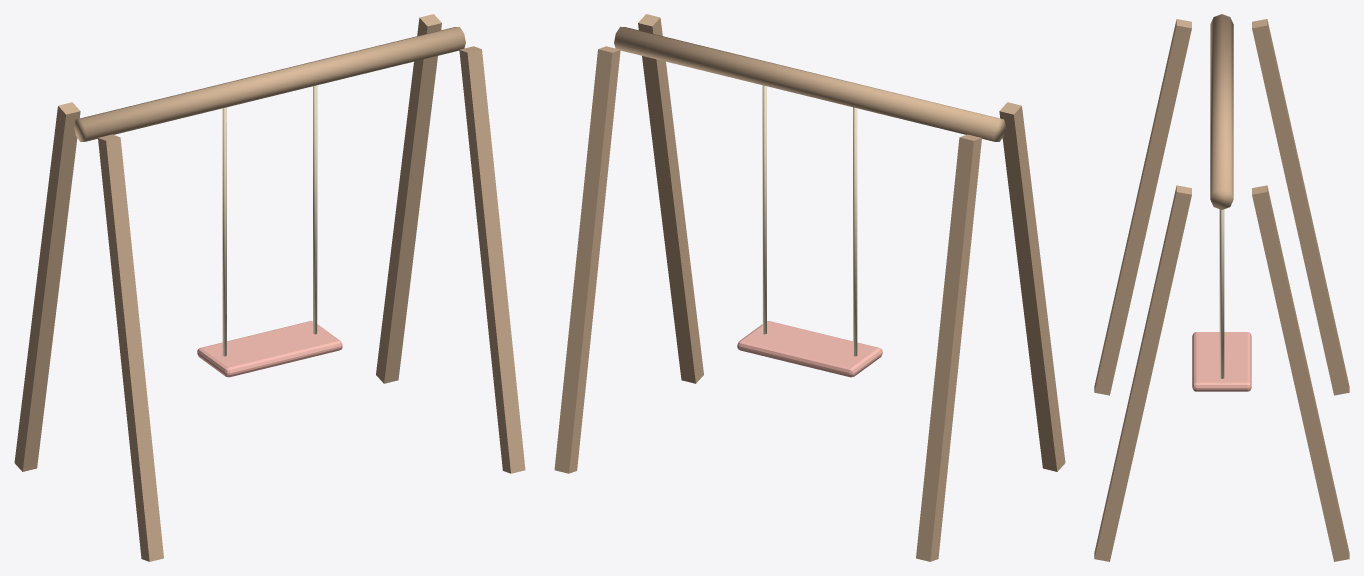
Rendered from swing.glb.
The picture shows the model from 3 angles, left to right: view 1: azimuth 30°, elevation 25°; view 2: azimuth 150°, elevation 25°; view 3: azimuth 270°, elevation 25°; orthographic projection. The views are drawn at different scales.
Parts seen in each view (by area): view 1: swing; view 2: swing; view 3: swing.
Part boxes in pixels (x1=…): swing: x1=14, y1=14, x2=525, y2=561; swing: x1=554, y1=14, x2=1065, y2=561; swing: x1=1094, y1=14, x2=1349, y2=561.
Bounding box in the file's own units: 2.1 × 2.1 × 1.3.
